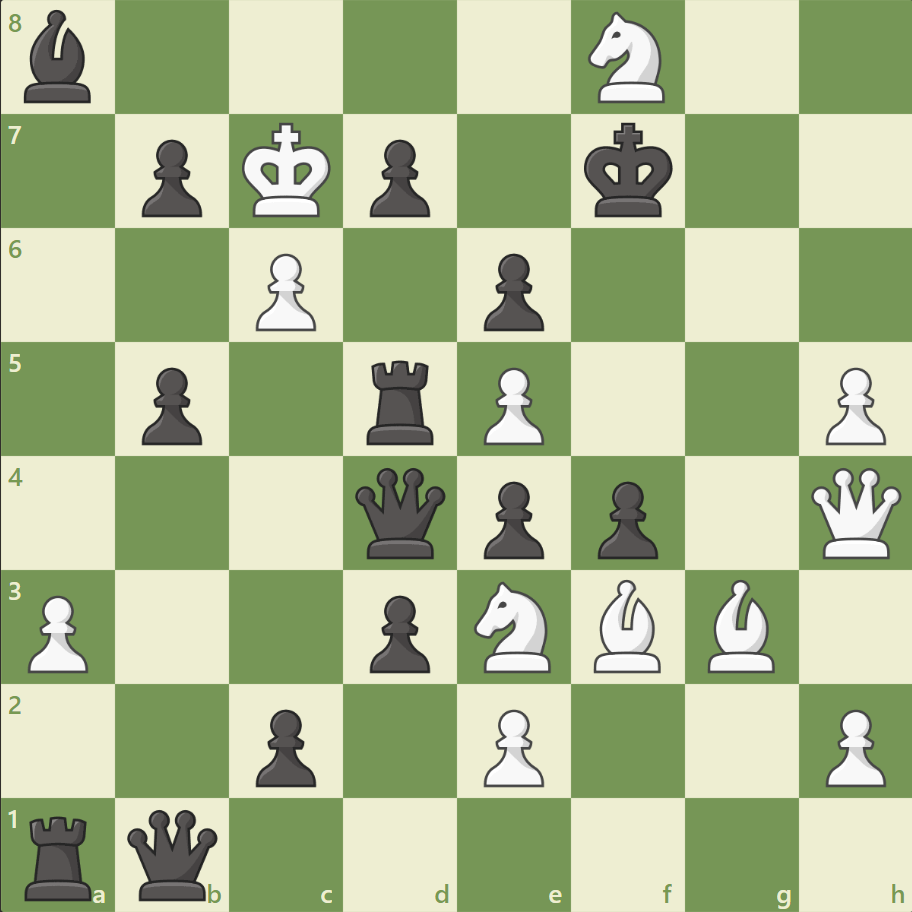B: (585, 574, 669, 676), (698, 574, 782, 676)
K: (238, 117, 338, 225)
N: (579, 7, 676, 110), (465, 575, 562, 677)
P: (247, 246, 322, 337), (474, 359, 549, 450), (20, 586, 95, 677), (474, 700, 549, 791), (815, 359, 889, 450), (815, 700, 889, 791)
Q: (805, 463, 904, 562)
b: (17, 6, 101, 109)
k: (579, 117, 679, 225)
p: (133, 132, 208, 223), (474, 246, 549, 337), (133, 359, 208, 450), (474, 473, 549, 564), (247, 700, 322, 791), (361, 132, 435, 223), (588, 473, 662, 564), (361, 586, 435, 677)
q: (351, 463, 450, 562), (124, 804, 223, 903)
r: (19, 806, 102, 904), (360, 352, 442, 449)
